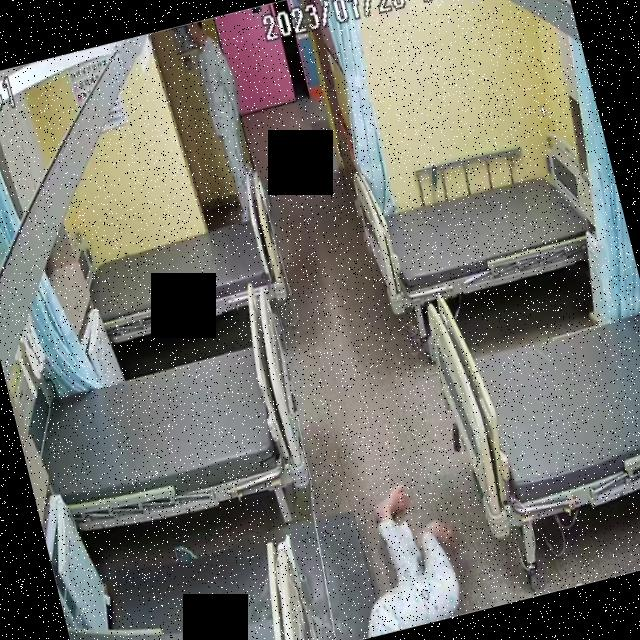bed: (418, 246, 640, 537), (23, 328, 315, 540), (354, 144, 610, 316), (80, 202, 288, 344)
fall: (335, 476, 471, 638)
patient: (332, 472, 474, 638), (186, 17, 266, 212)
